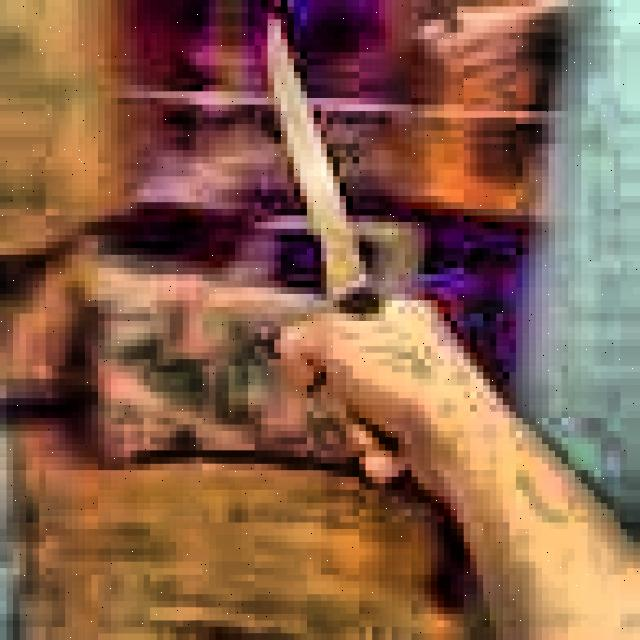knife: (272, 29, 417, 492)
